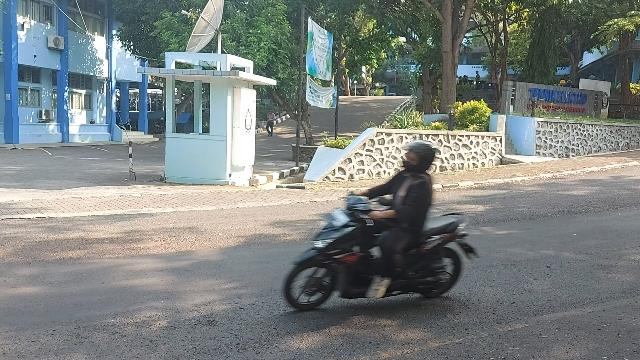helm: (404, 142, 436, 173)
motor: (286, 196, 481, 314)
